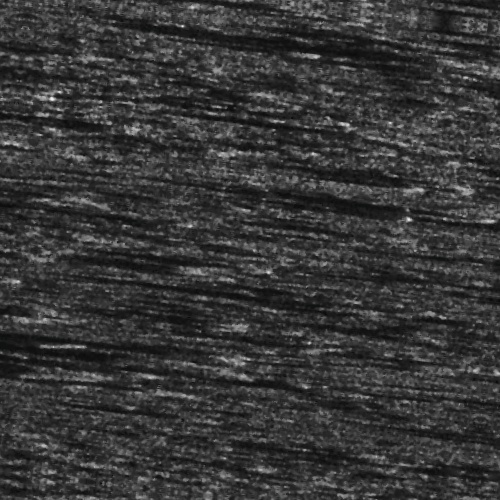object: (159, 350, 274, 363), (110, 393, 235, 404), (197, 0, 332, 9), (40, 387, 133, 400), (315, 117, 388, 126), (434, 2, 500, 11), (326, 292, 409, 299), (28, 361, 101, 368), (429, 186, 500, 193), (201, 264, 274, 269), (466, 11, 500, 20), (250, 300, 291, 307), (5, 340, 58, 345), (444, 37, 497, 42), (1, 116, 42, 121), (358, 218, 399, 223), (33, 462, 74, 467), (16, 453, 47, 458), (190, 420, 221, 423), (211, 369, 222, 374)
shadow: (0, 350, 216, 363), (0, 393, 173, 404), (217, 186, 470, 193), (322, 190, 500, 199), (165, 37, 470, 42), (152, 292, 367, 299), (98, 0, 264, 9), (186, 117, 351, 126), (0, 387, 86, 400), (0, 369, 216, 374), (356, 2, 470, 11), (380, 11, 492, 20), (136, 300, 271, 307), (100, 264, 237, 269), (248, 218, 378, 223), (0, 361, 64, 368), (452, 429, 500, 438), (66, 420, 205, 423), (0, 462, 54, 467), (0, 340, 31, 345), (0, 453, 31, 458), (0, 116, 21, 121)
